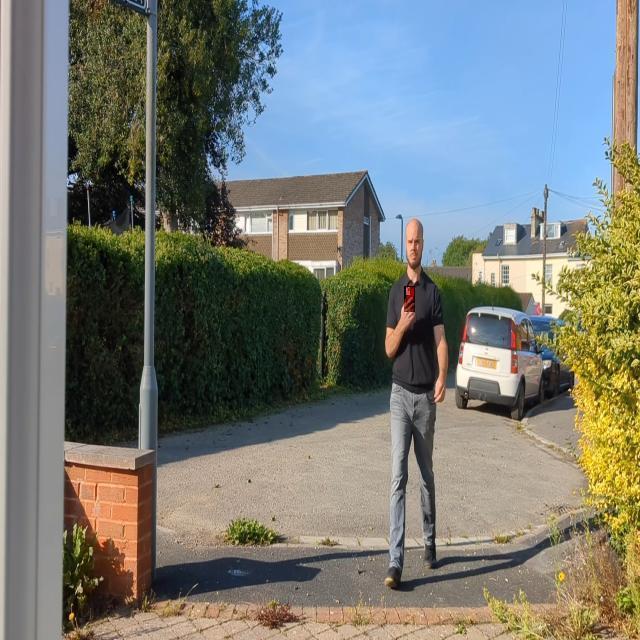phone: (404, 286, 415, 312)
